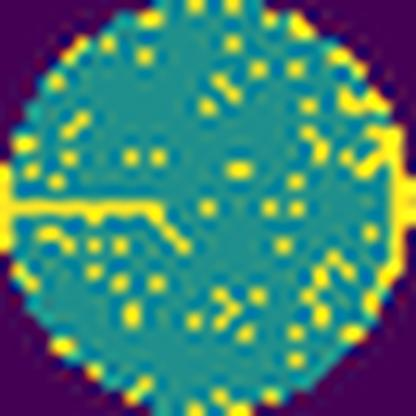Scratch: (0, 162, 197, 266)
